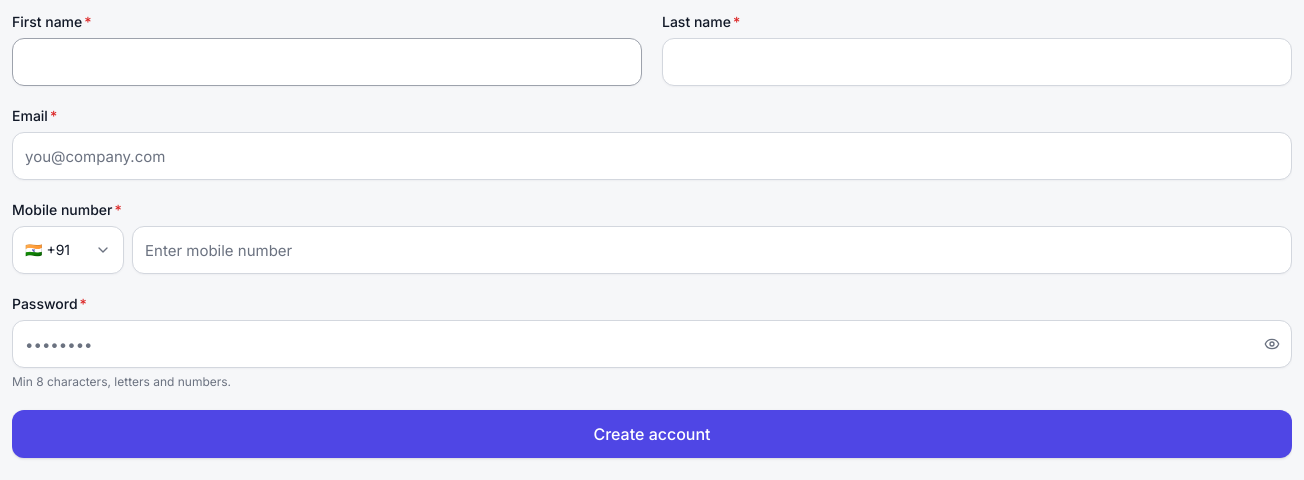
Test: SignupForm › rejects a weak password
The width and height of the screenshot is (1304, 480).
Type "Sam" into the field labelled "First name*" at point(327, 62), box [12, 38, 642, 86]
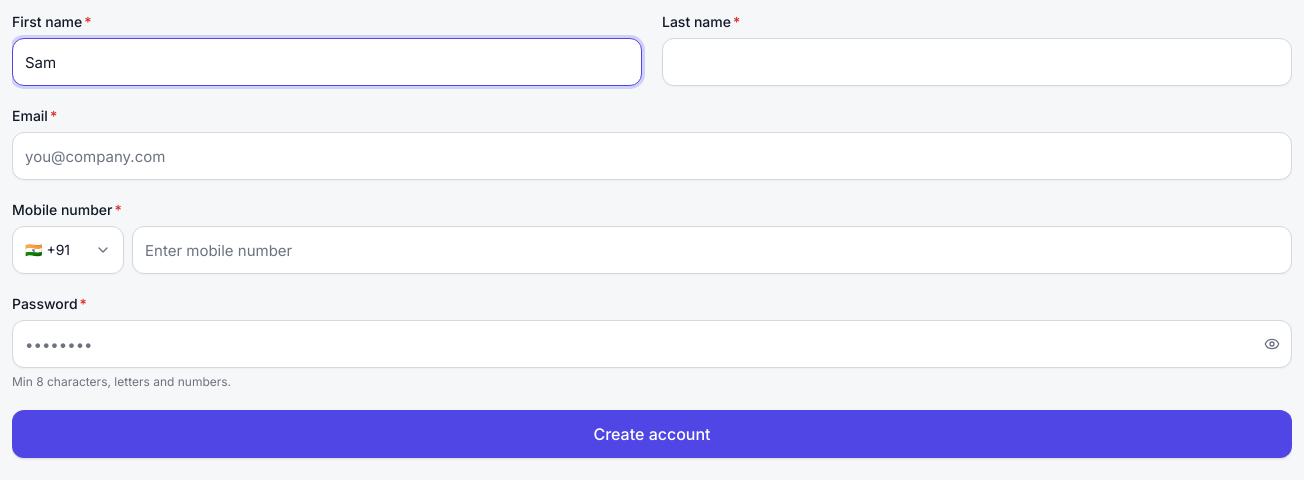
Type "Rivera" into the field labelled "Last name*" at point(977, 62), box [662, 38, 1292, 86]
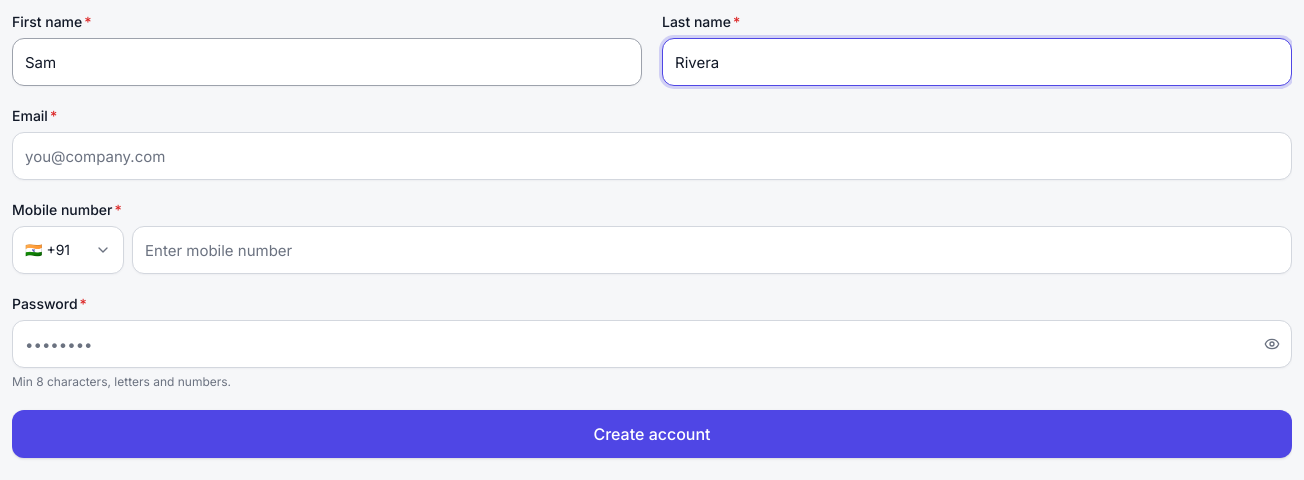
Type "sam@company.com" into the field labelled "Email*" at point(652, 156), box [12, 132, 1292, 180]
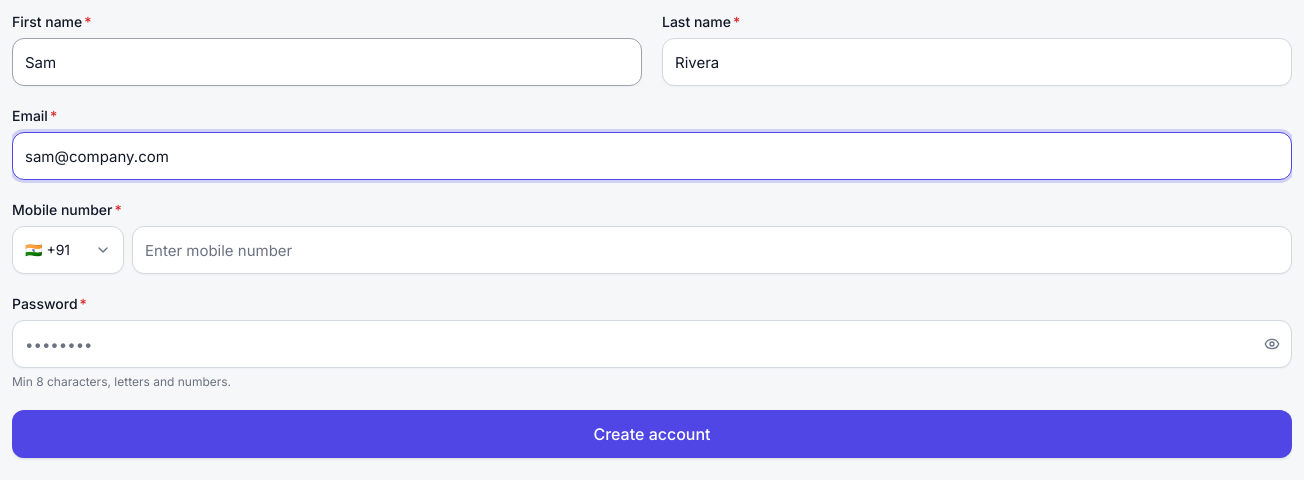
Type "98765 43210" into the field labelled "Mobile number*" at point(712, 250), box [132, 226, 1292, 274]
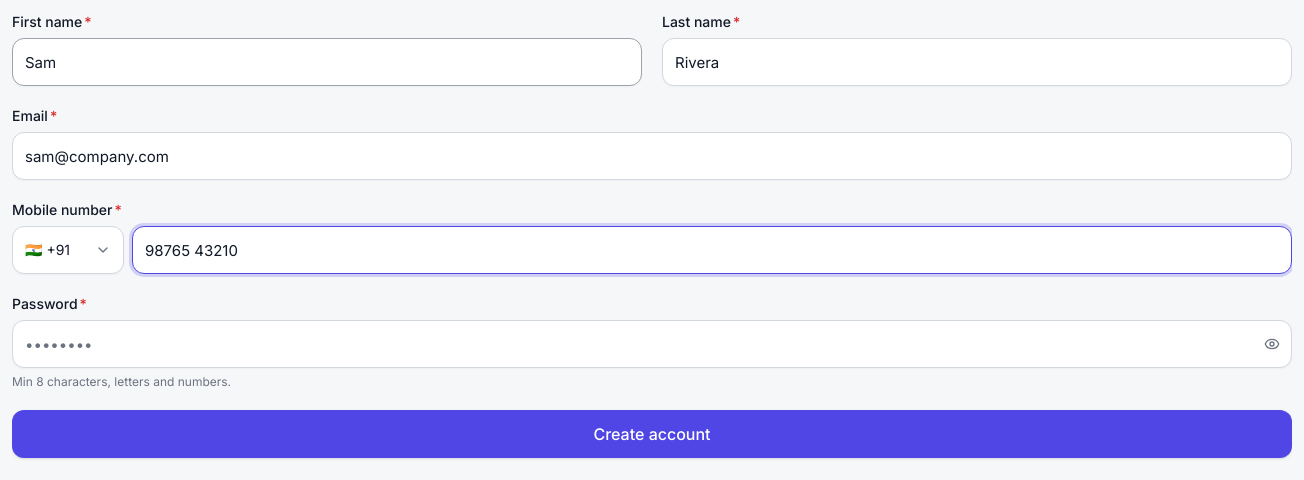
Type "short" into the password field labelled "Password*" at point(652, 344), box [12, 320, 1292, 368]
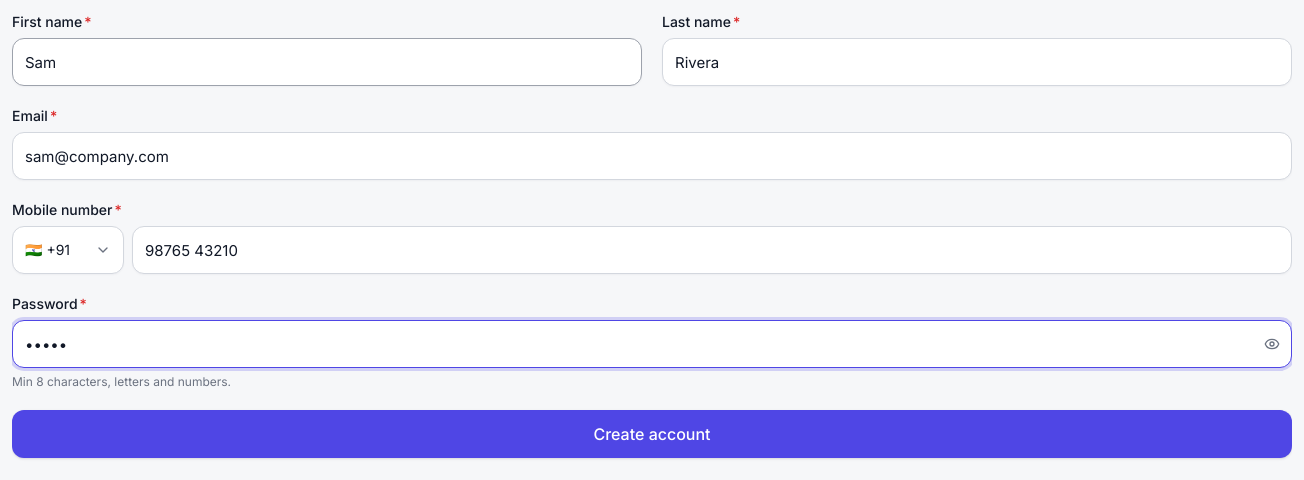
Click the button "Create account" at point(652, 434), box [12, 410, 1292, 458]
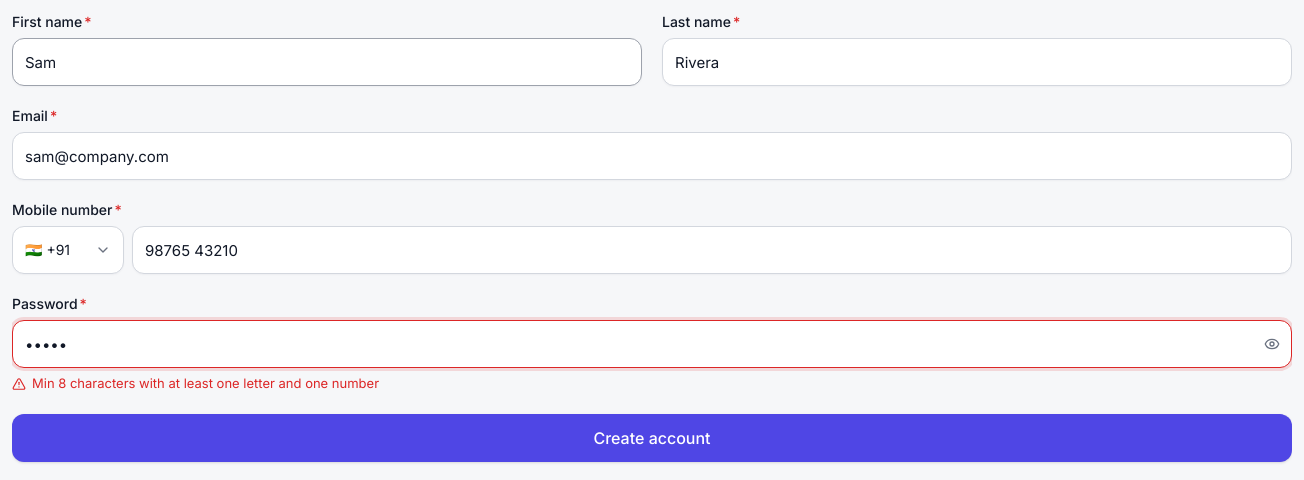
Expected: the text "Min 8 characters with at least one letter and one number" is shown, [12, 375, 379, 391]
